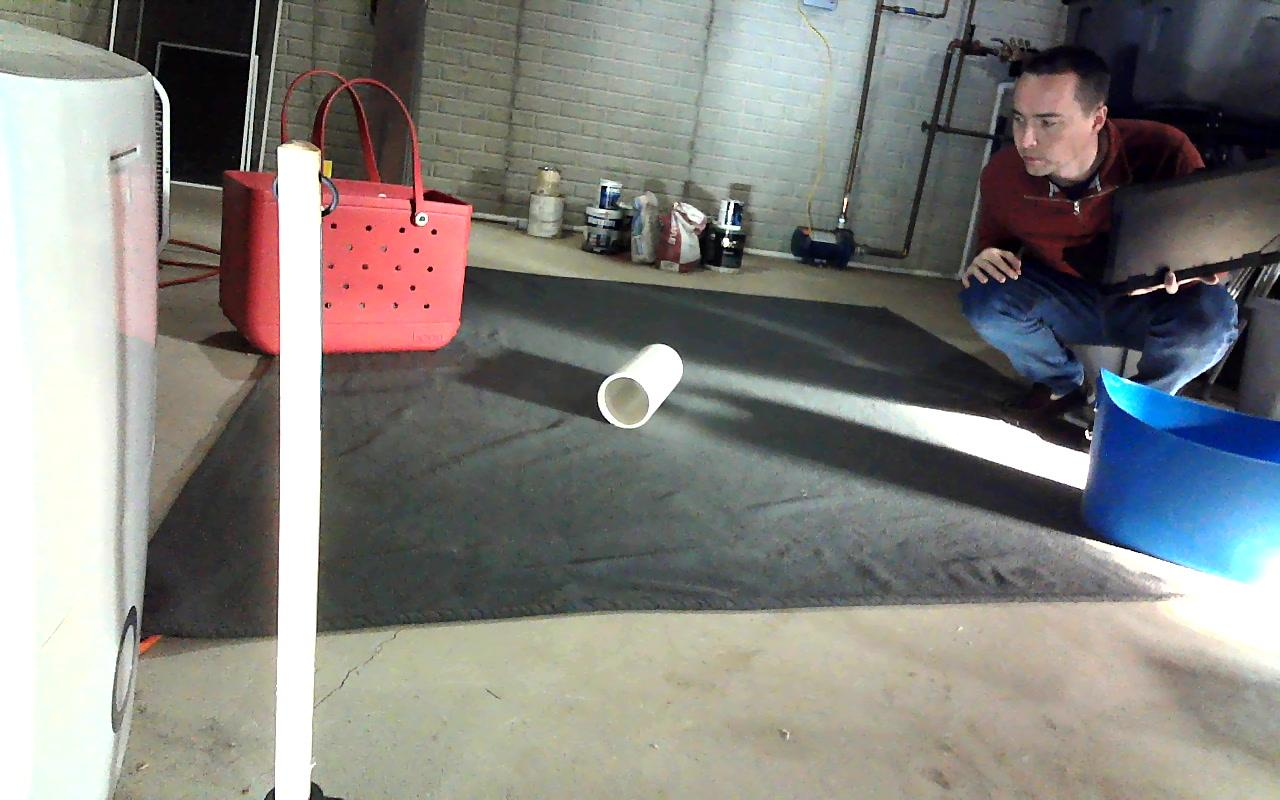coral: (597, 344, 683, 428)
